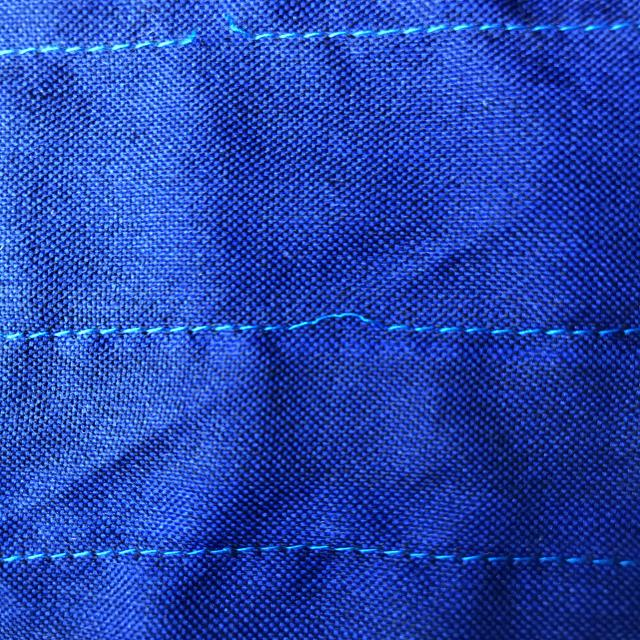broken: (164, 15, 270, 67)
good: (218, 538, 391, 571)
skip: (267, 298, 399, 352)
